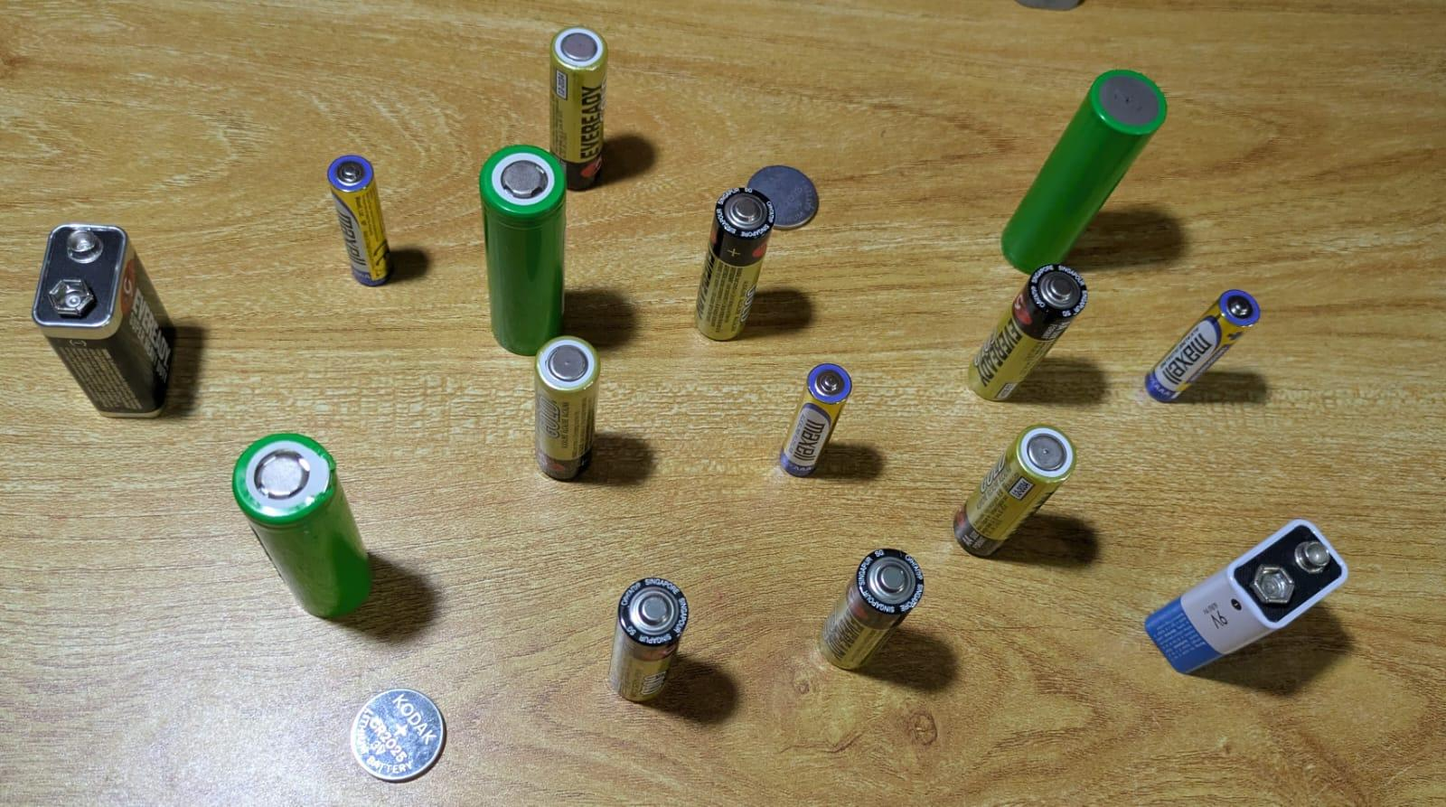9V: (1144, 515, 1350, 673), (28, 219, 171, 417)
AA: (966, 264, 1088, 404), (957, 425, 1075, 557), (817, 550, 919, 674), (692, 186, 773, 342), (606, 577, 688, 703), (548, 23, 608, 192), (535, 334, 603, 480)
AAA: (1135, 283, 1272, 420), (771, 353, 863, 485), (323, 150, 402, 299)
COIN: (349, 688, 446, 782), (745, 165, 820, 232)
